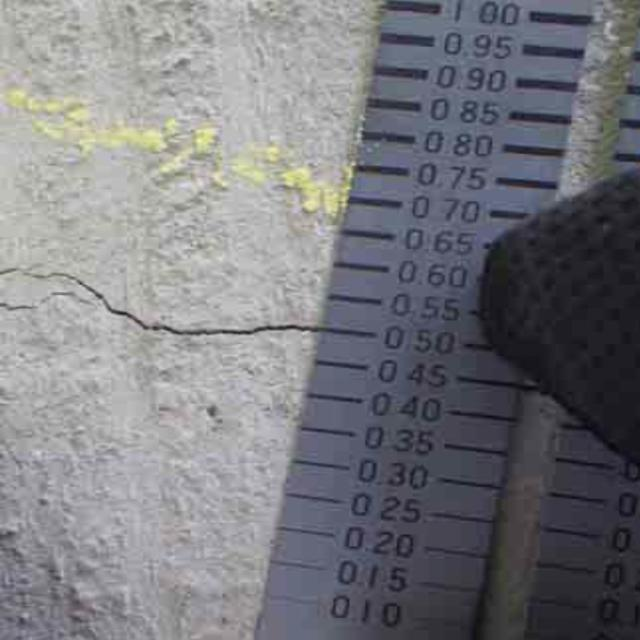crack: (2, 253, 318, 390)
